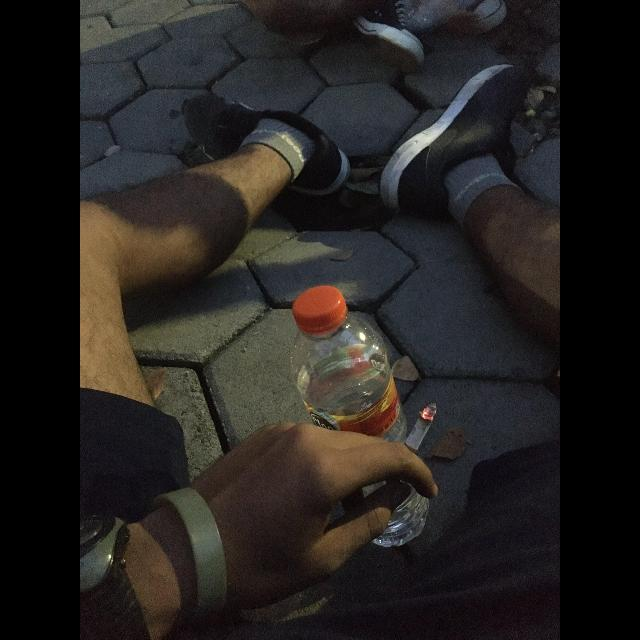rokok: (405, 399, 437, 453)
